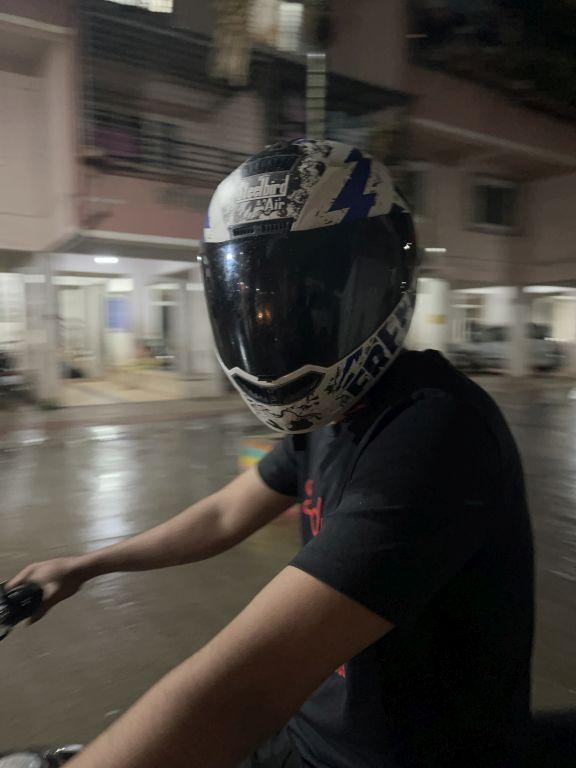helmet: (197, 120, 425, 441)
